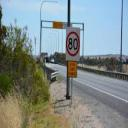speed_limit_80: (66, 30, 80, 57)
